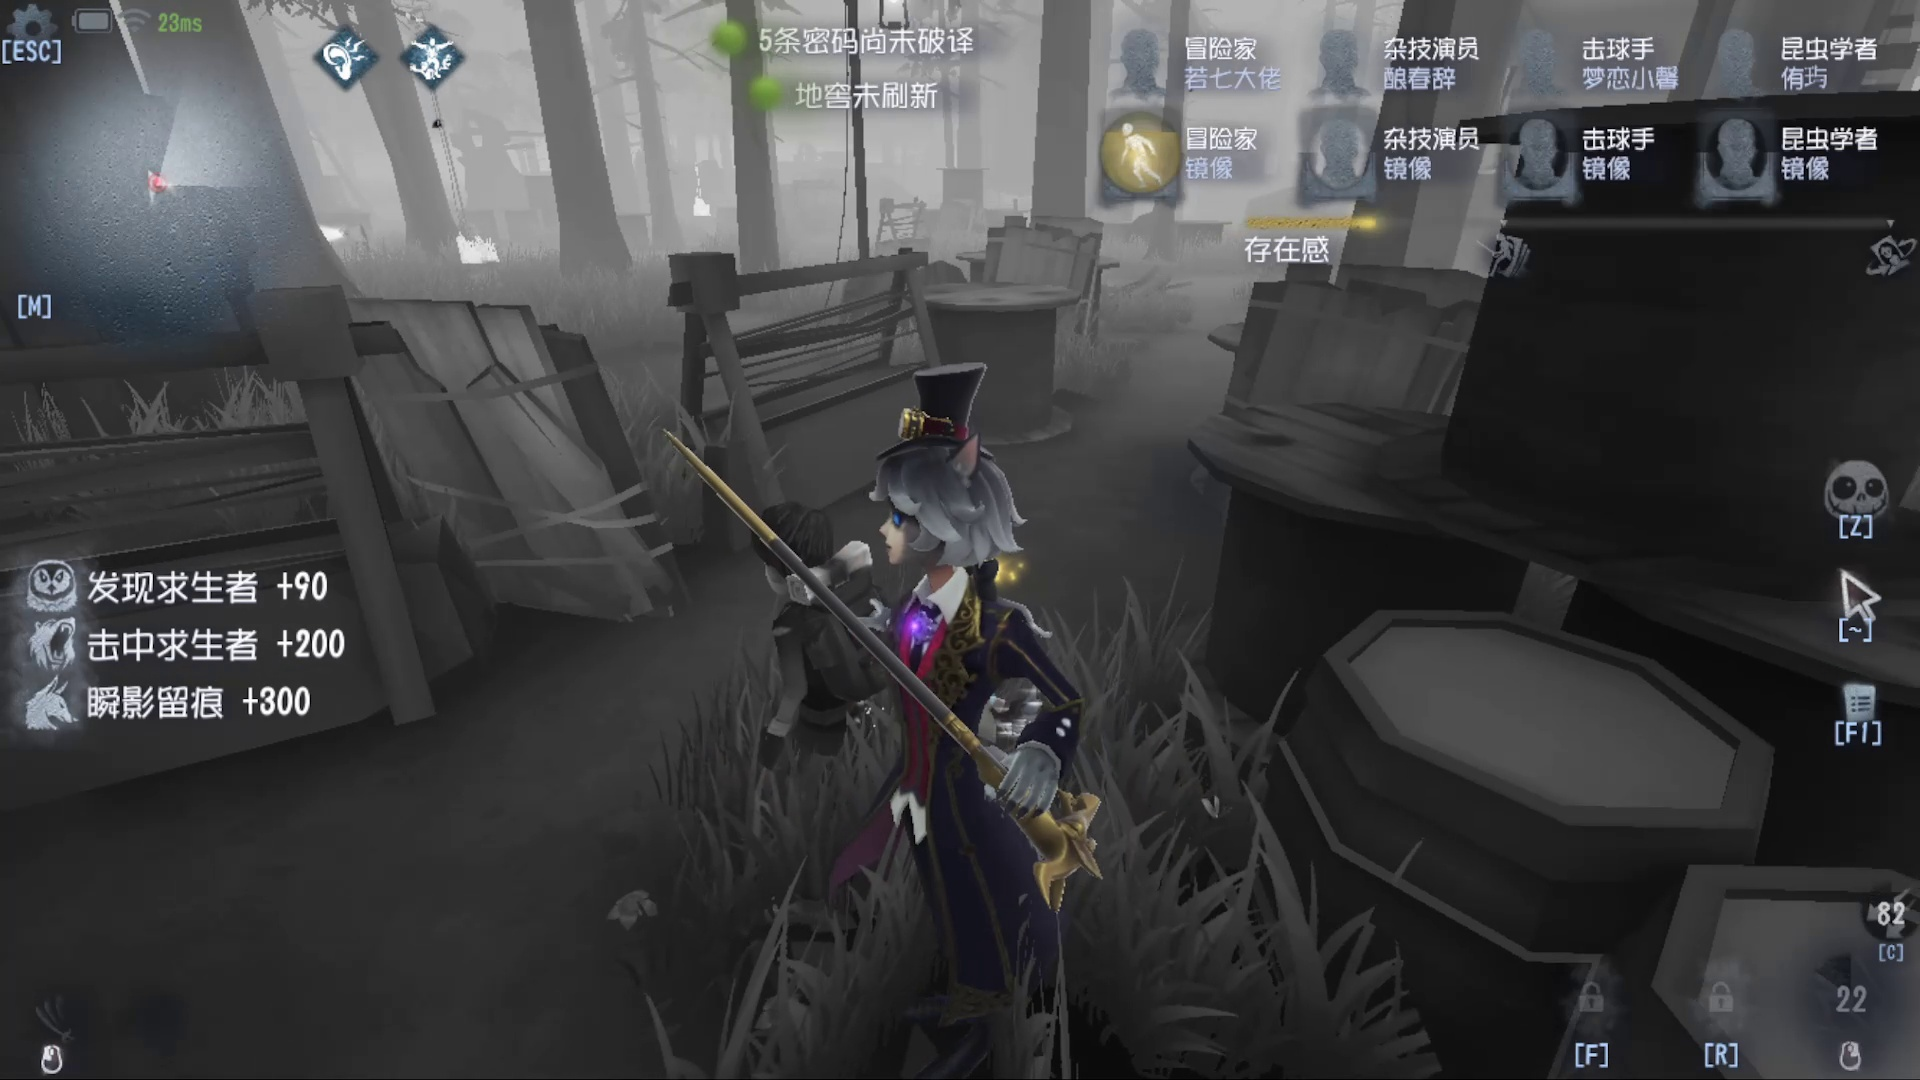密码机: (407, 45, 506, 301)
木板: (323, 276, 686, 646), (1215, 274, 1502, 464), (975, 203, 1141, 331)
求生者: (754, 495, 878, 766)
